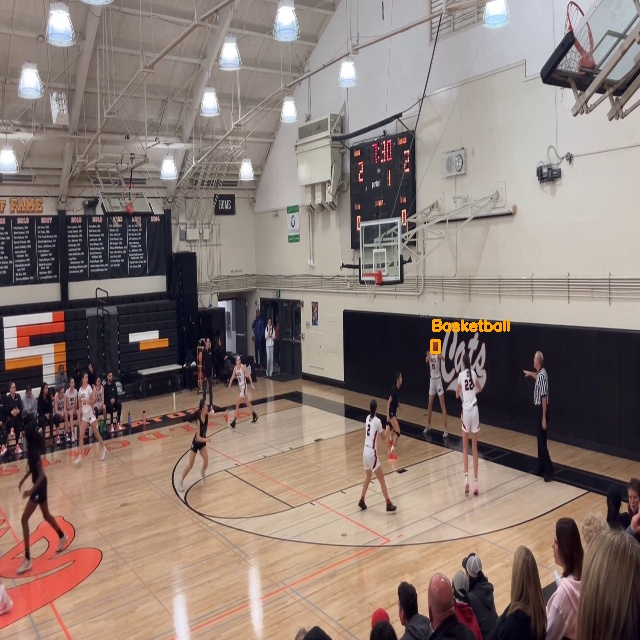Basketball: (431, 340, 439, 352)
